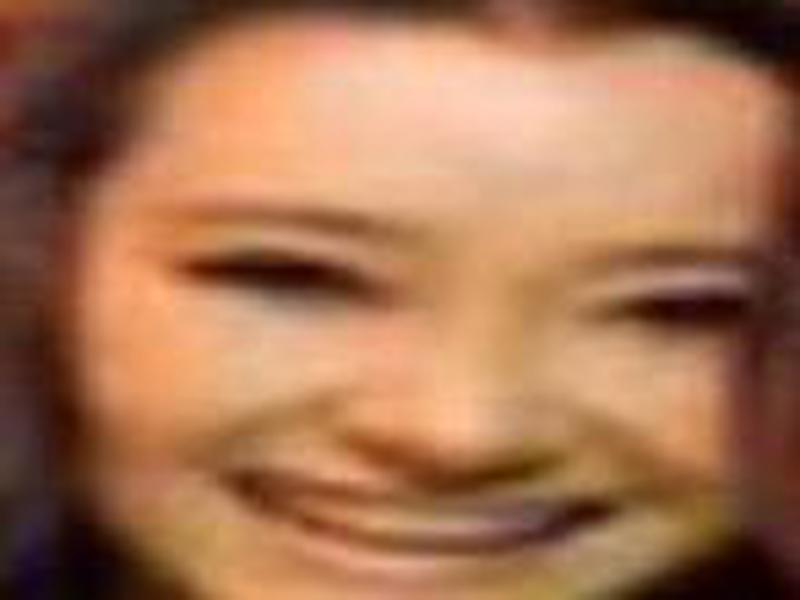without_mask: (53, 29, 797, 600)
